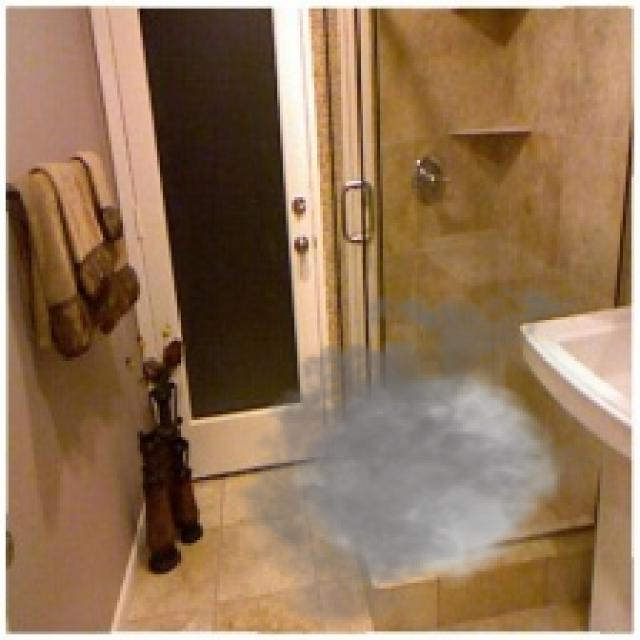smoke: (211, 272, 640, 637)
